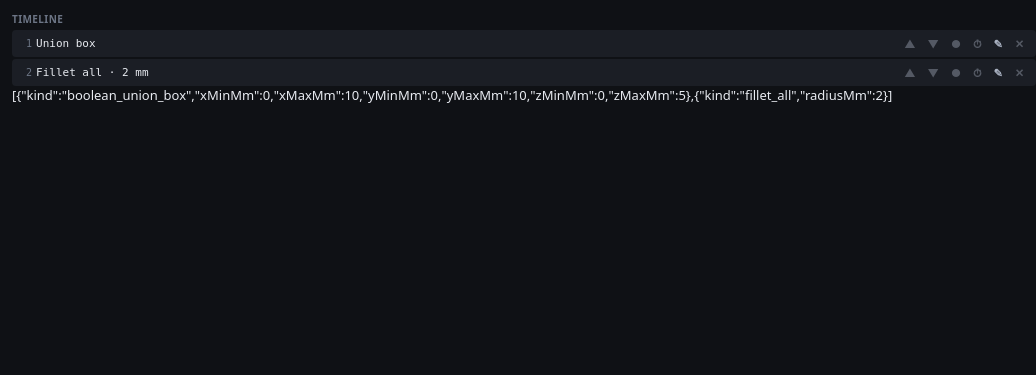
Test case: feature timeline re-edit — interactive (happy-dom) › edits a fillet radius in place: pre-filled dialog, update at index, NO append
Click the button with test id "cad-kernel-edit" in the row of "Fillet all · 2 mm" at (998,72), box [989, 64, 1008, 81]
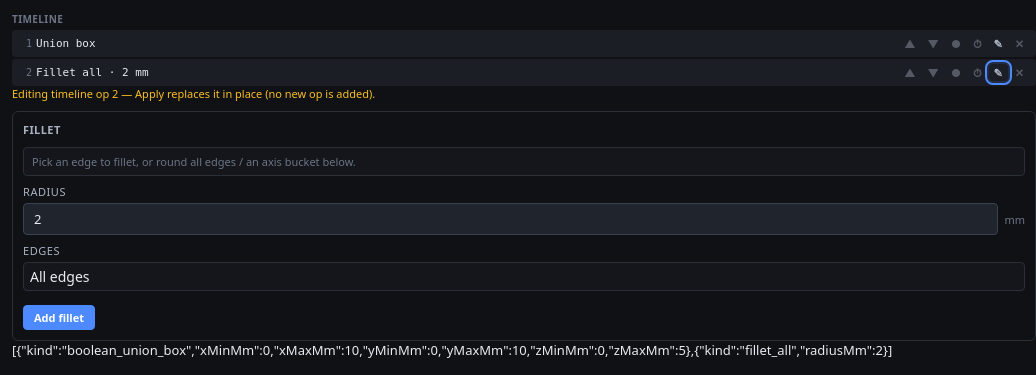
Expected: the element with test id "fd-fillet" is shown
Expected: the number field with test id "fd-fillet-radius" holds "2"
# Change 2 → 7 and apply.
Replace the text in the number field with test id "fd-fillet-radius" with "7" at (511,219), box [23, 203, 998, 235]
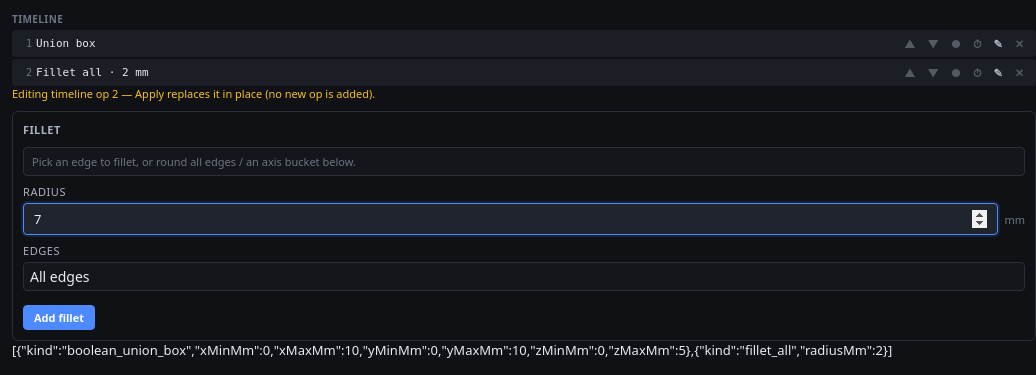
Click the button with test id "fd-fillet-apply" at (59,318), box [23, 305, 95, 330]
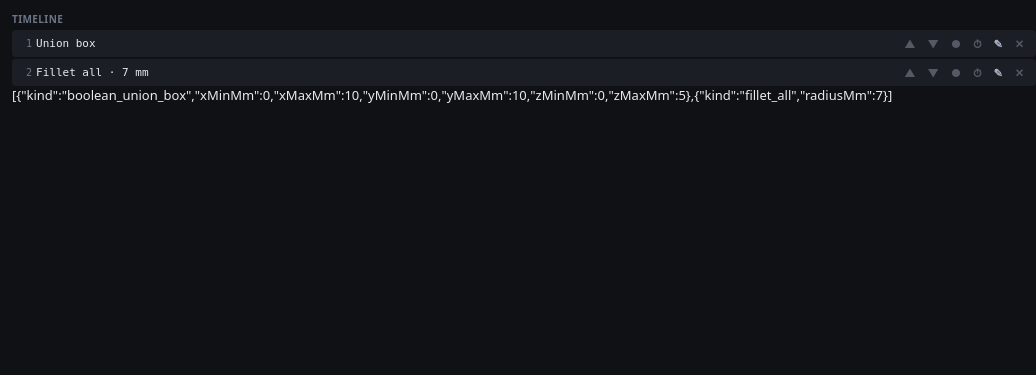
Expected: the element with test id "fd-edit-host" is gone
